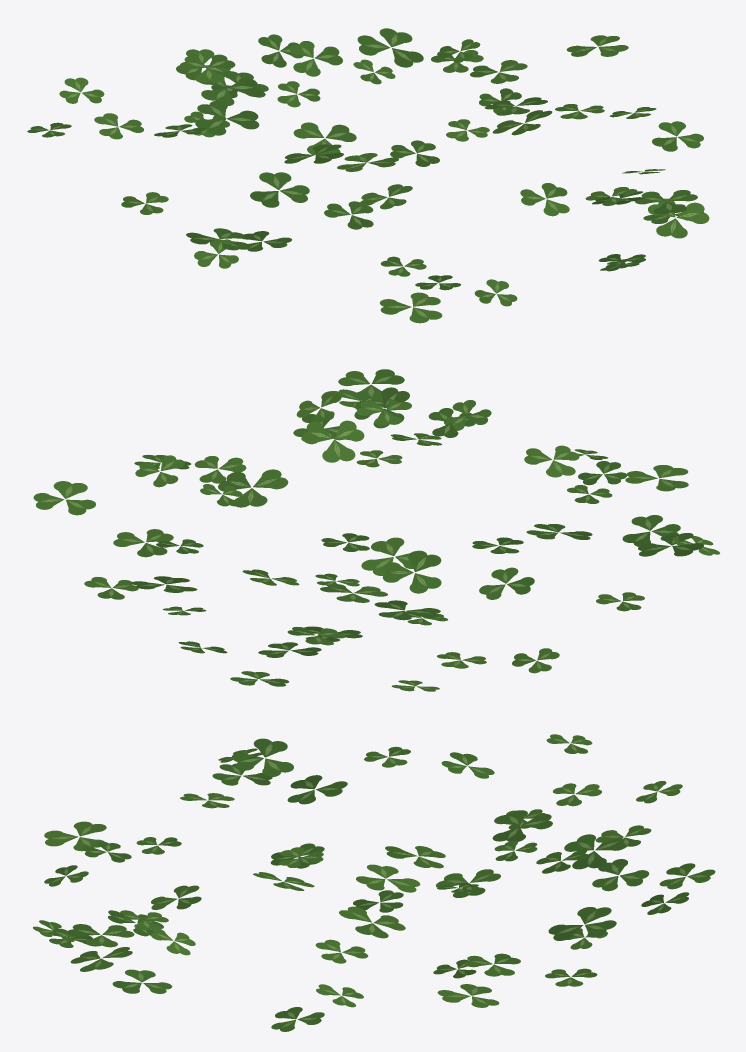
The model's file is hoh_oregon_oxalis.glb.
The picture shows the model from 3 angles, top to bottom: view 1: azimuth 30°, elevation 25°; view 2: azimuth 150°, elevation 25°; view 3: azimuth 270°, elevation 25°; orthographic projection. The views are drawn at different scales.
Visible parts, largest first — view 1: hoh_oregon_oxalis; view 2: hoh_oregon_oxalis; view 3: hoh_oregon_oxalis.
Boxes of the visible parts, left/top/right/bottom form: hoh_oregon_oxalis: left=27, top=28, right=709, bottom=323; hoh_oregon_oxalis: left=33, top=369, right=719, bottom=691; hoh_oregon_oxalis: left=33, top=734, right=715, bottom=1031.
Bounding box in the file's own units: 0.7485 × 0.1034 × 0.7866.
1 material, 1 textured.
